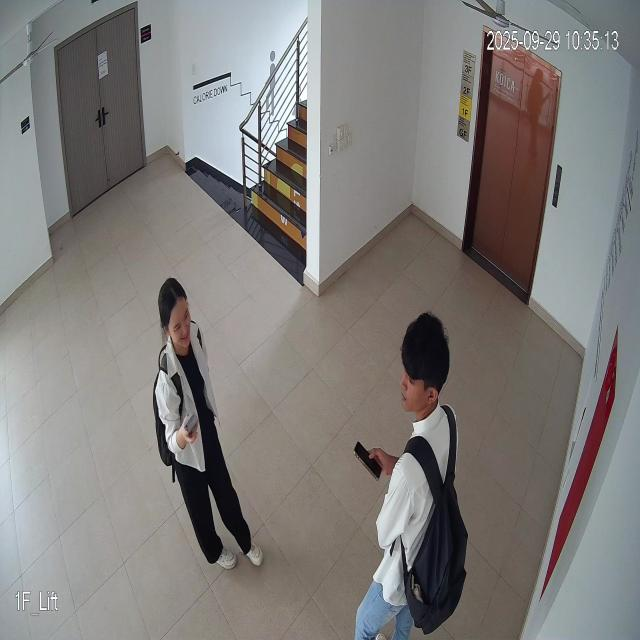face: (395, 310, 449, 418), (157, 274, 198, 357)
